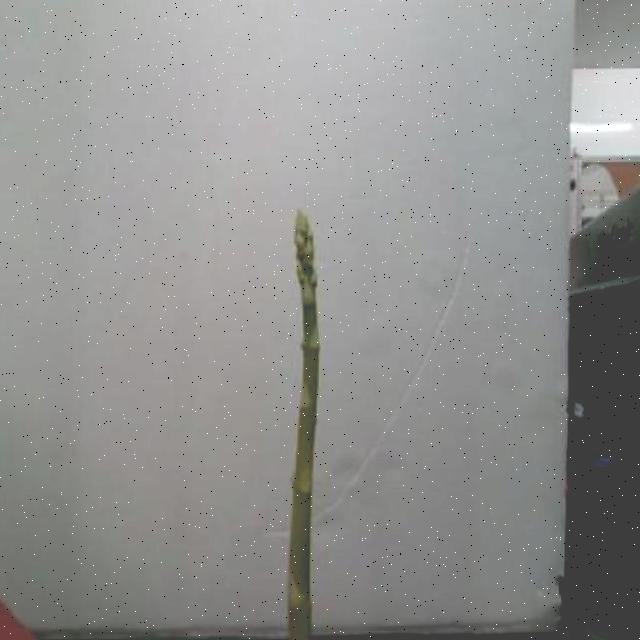aspargus: (287, 210, 325, 640)
